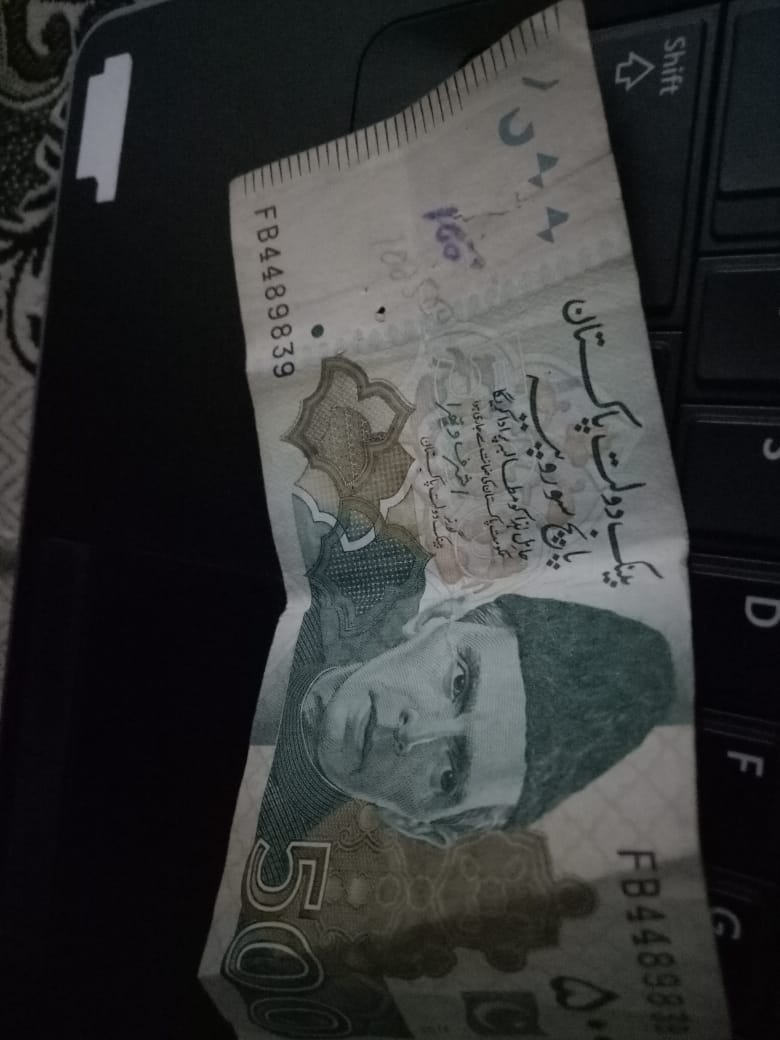500 rupee: (204, 46, 709, 1036)
